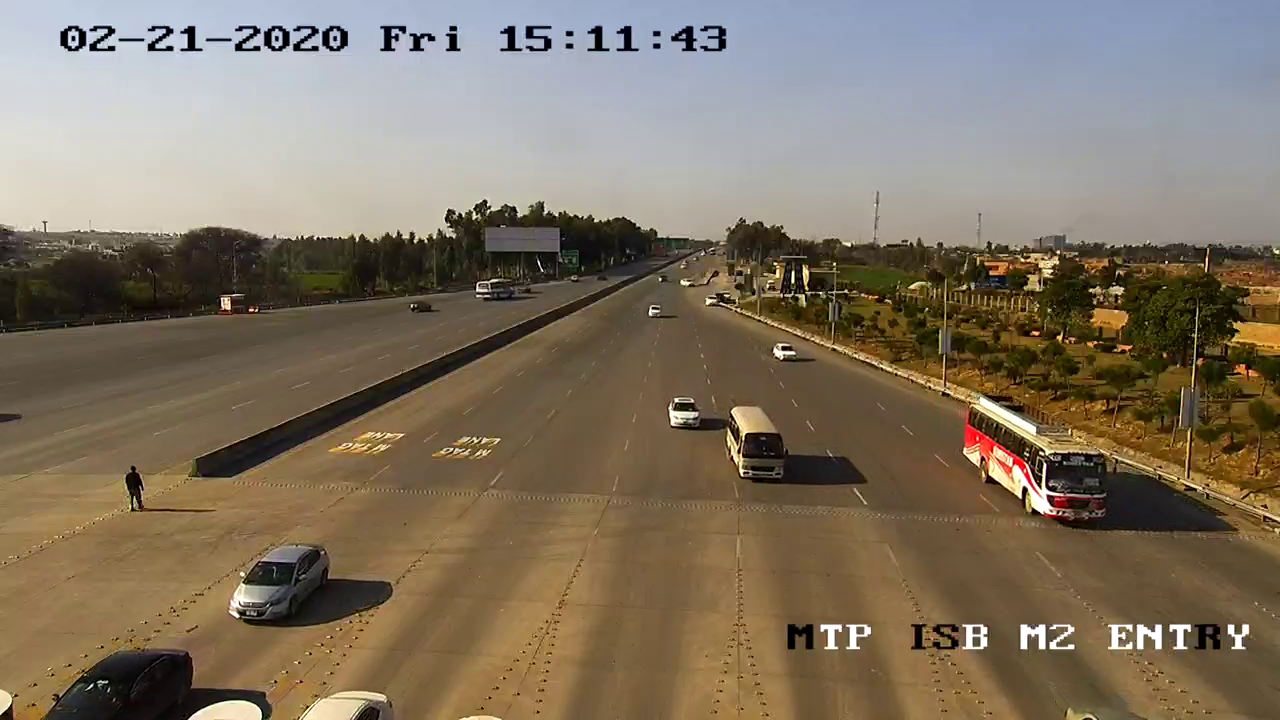f1: (224, 529, 333, 633), (665, 389, 704, 435)
f3: (721, 401, 796, 487)
f4: (956, 387, 1121, 528)
